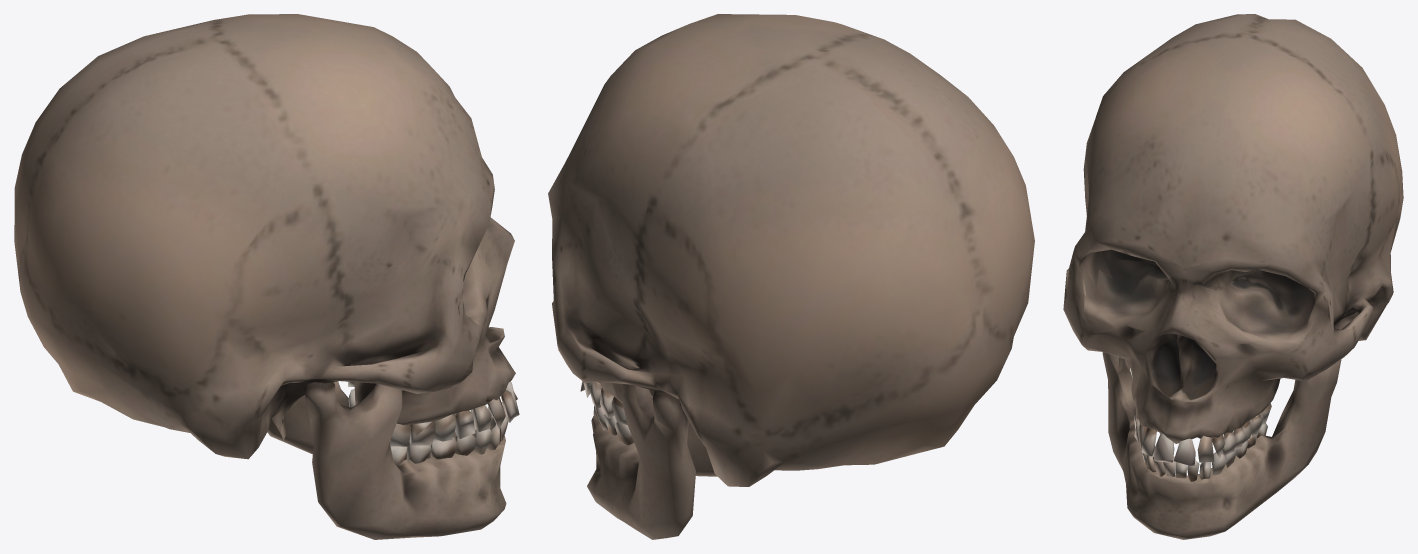
Rendered from skull.glb.
3 views of the same model, side by side, from view 1: azimuth 30°, elevation 25°; view 2: azimuth 150°, elevation 25°; view 3: azimuth 270°, elevation 25° (orthographic). The views are drawn at different scales.
Visible parts, largest first — view 1: Skull; view 2: Skull; view 3: Skull.
Boxes of the visible parts, x1,y1,x2,y2 form: Skull: (14, 14, 519, 539); Skull: (548, 14, 1034, 539); Skull: (1063, 14, 1403, 539).
Bounding box in the file's own units: 1.78 × 1.94 × 1.45.
1 material, 1 textured.
